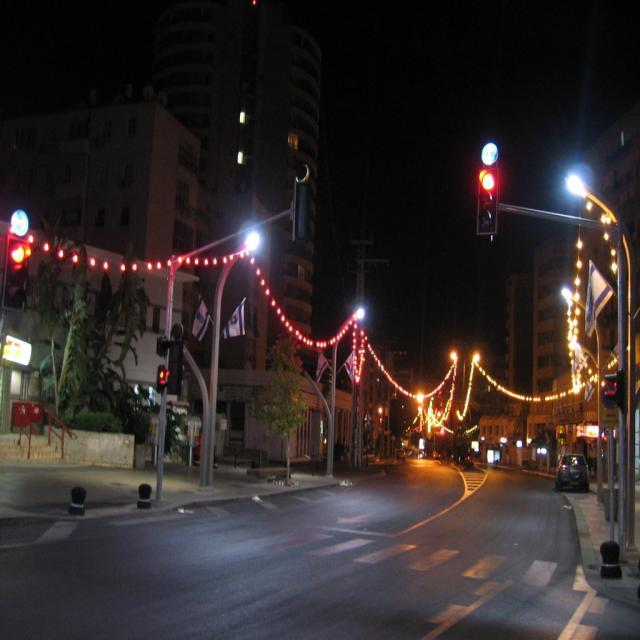traffic light: (4, 237, 27, 310), (477, 169, 498, 235), (157, 367, 170, 395)
